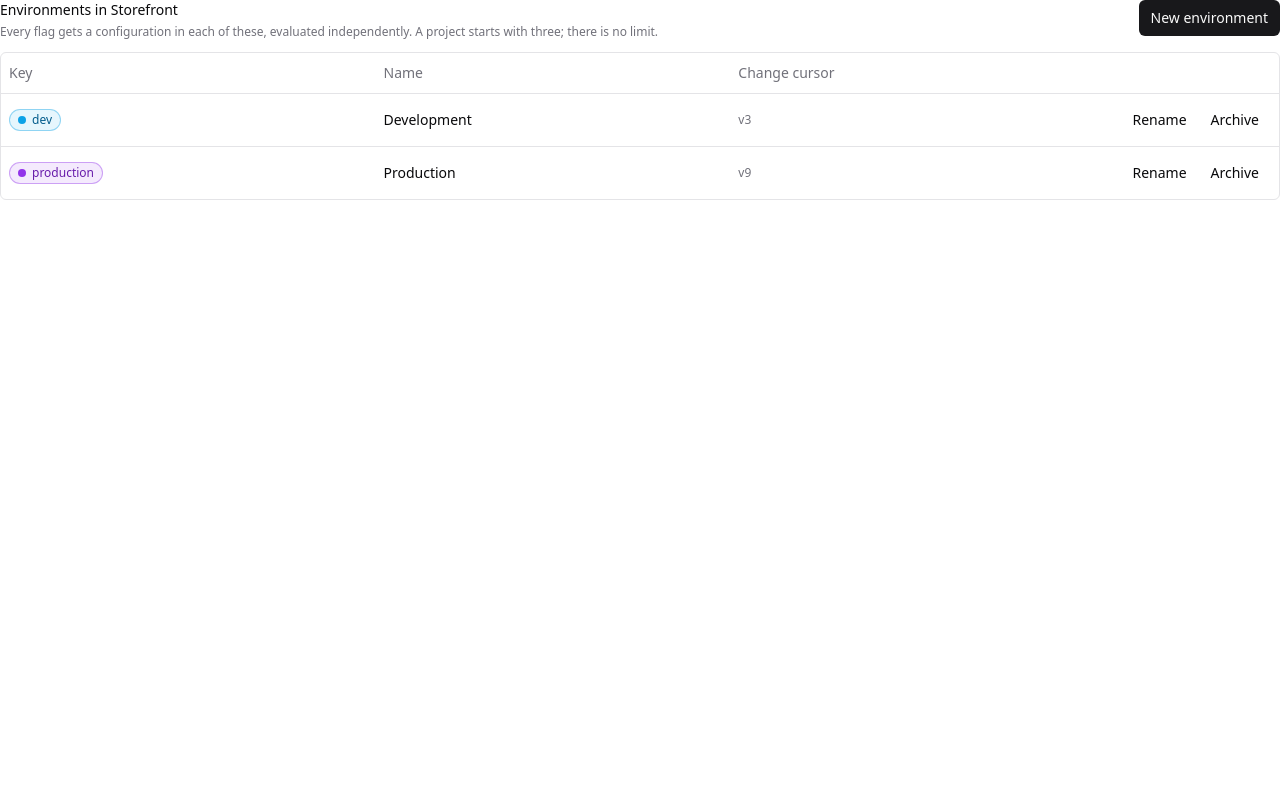
Test: EnvironmentsTab › refuses a duplicate key, which the server answers with a 409
Click the button with test id "create-environment" at (1209, 18), box [1138,0,1279,36]
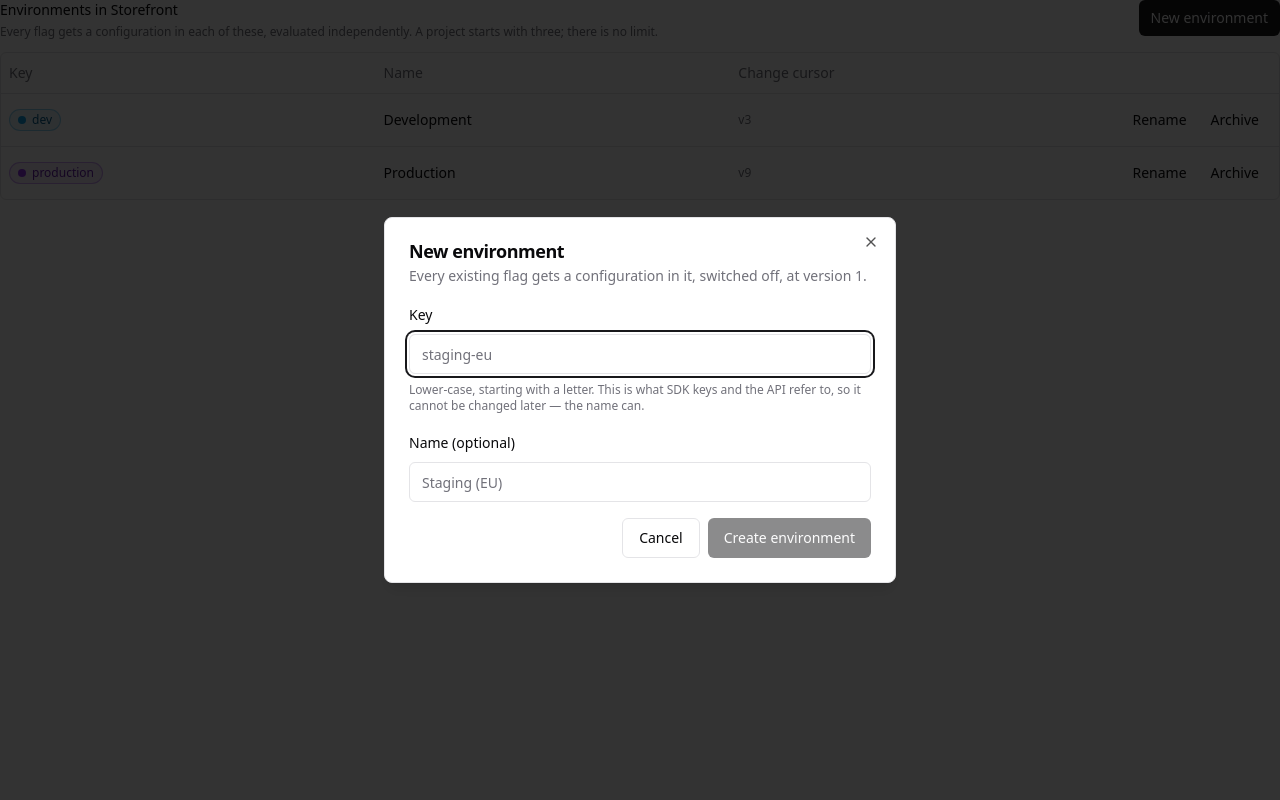
Type "production" into the field with test id "env-key" at (640, 354), box [409,334,871,374]
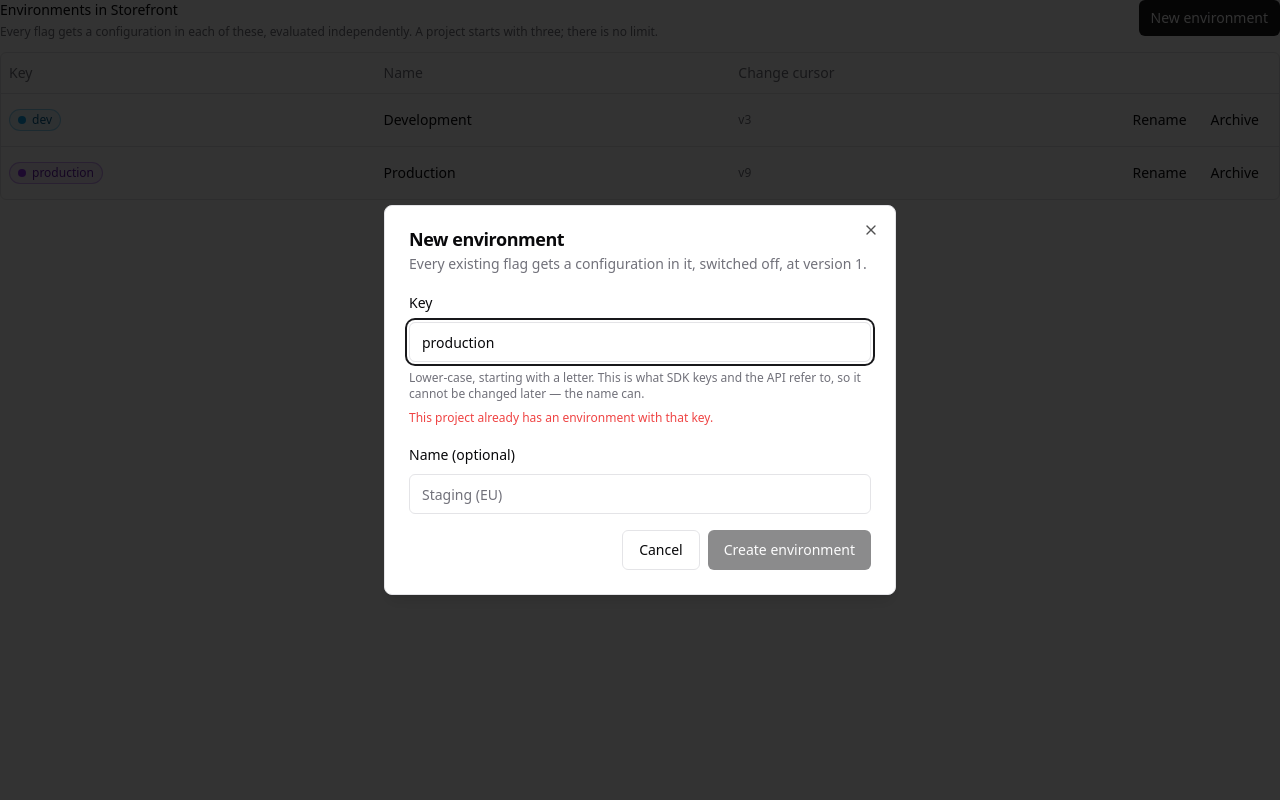
Now the button with test id "confirm-create-environment" is disabled, box [708,530,871,570]
Now the text "This project already has an environment with that key." is shown, box [409,409,713,426]
